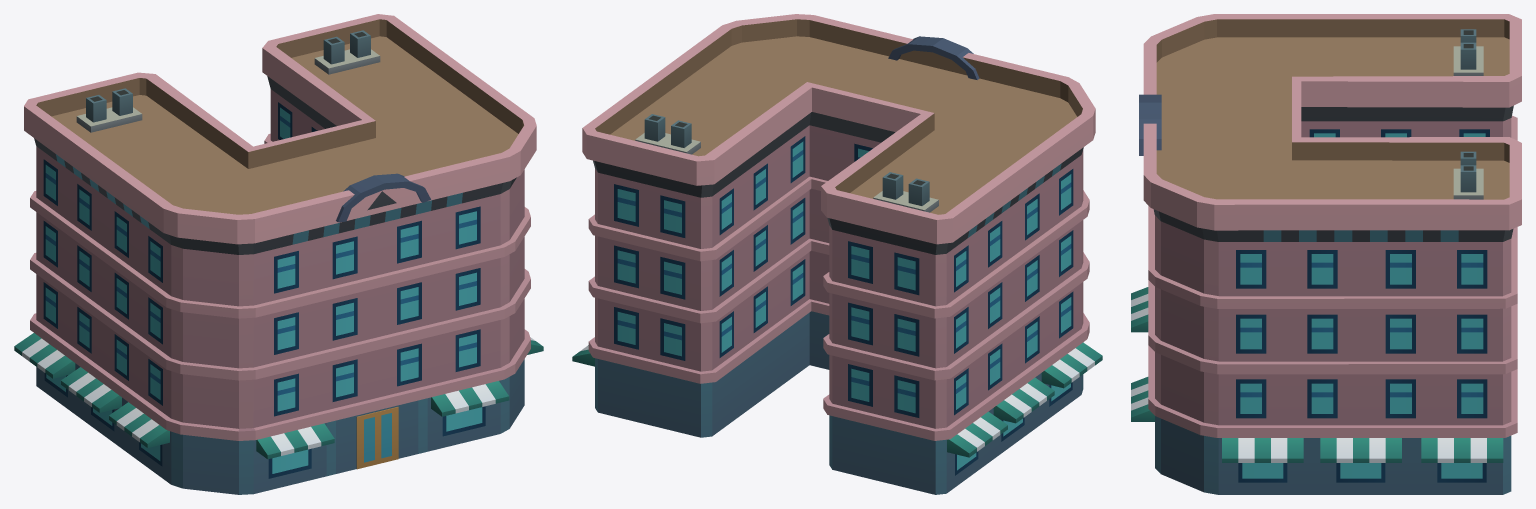
Rendered from Building_cartoon_33.fbx.
The picture shows the model from 3 angles, left to right: view 1: azimuth 30°, elevation 25°; view 2: azimuth 150°, elevation 25°; view 3: azimuth 270°, elevation 25°; orthographic projection. The views are drawn at different scales.
Visible parts, largest first — view 1: Building_cartoon_33; view 2: Building_cartoon_33; view 3: Building_cartoon_33.
Part boxes in pixels (<box>): Building_cartoon_33: <box>14,14,543,494</box>; Building_cartoon_33: <box>572,14,1102,494</box>; Building_cartoon_33: <box>1131,14,1521,494</box>.
Bounding box in the file's own units: 2031 × 1410 × 1643.
